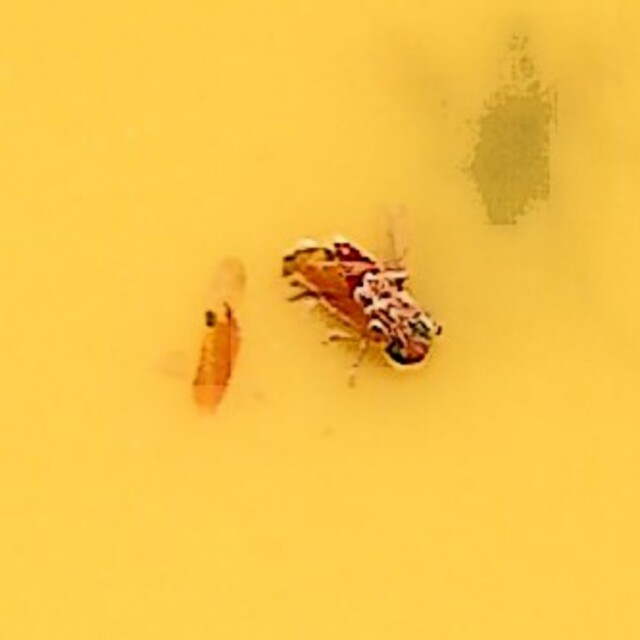Hemiptera: (283, 229, 448, 372), (192, 289, 236, 411)
